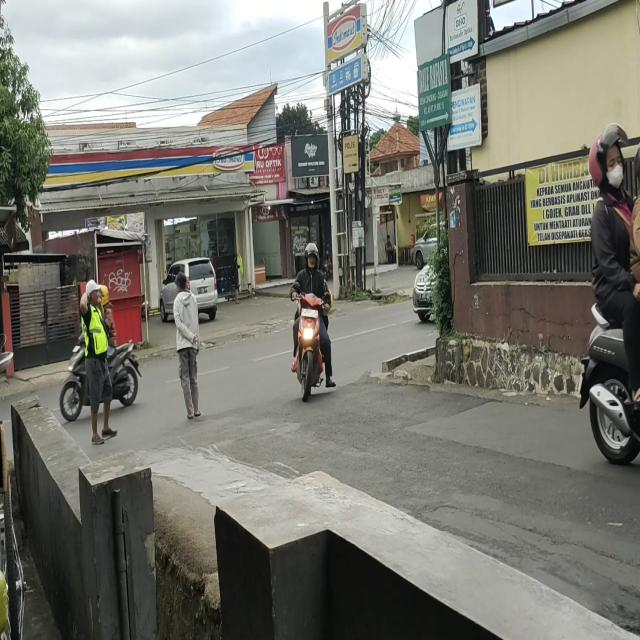helmet: (590, 136, 622, 193), (304, 244, 318, 276), (100, 286, 108, 304)
